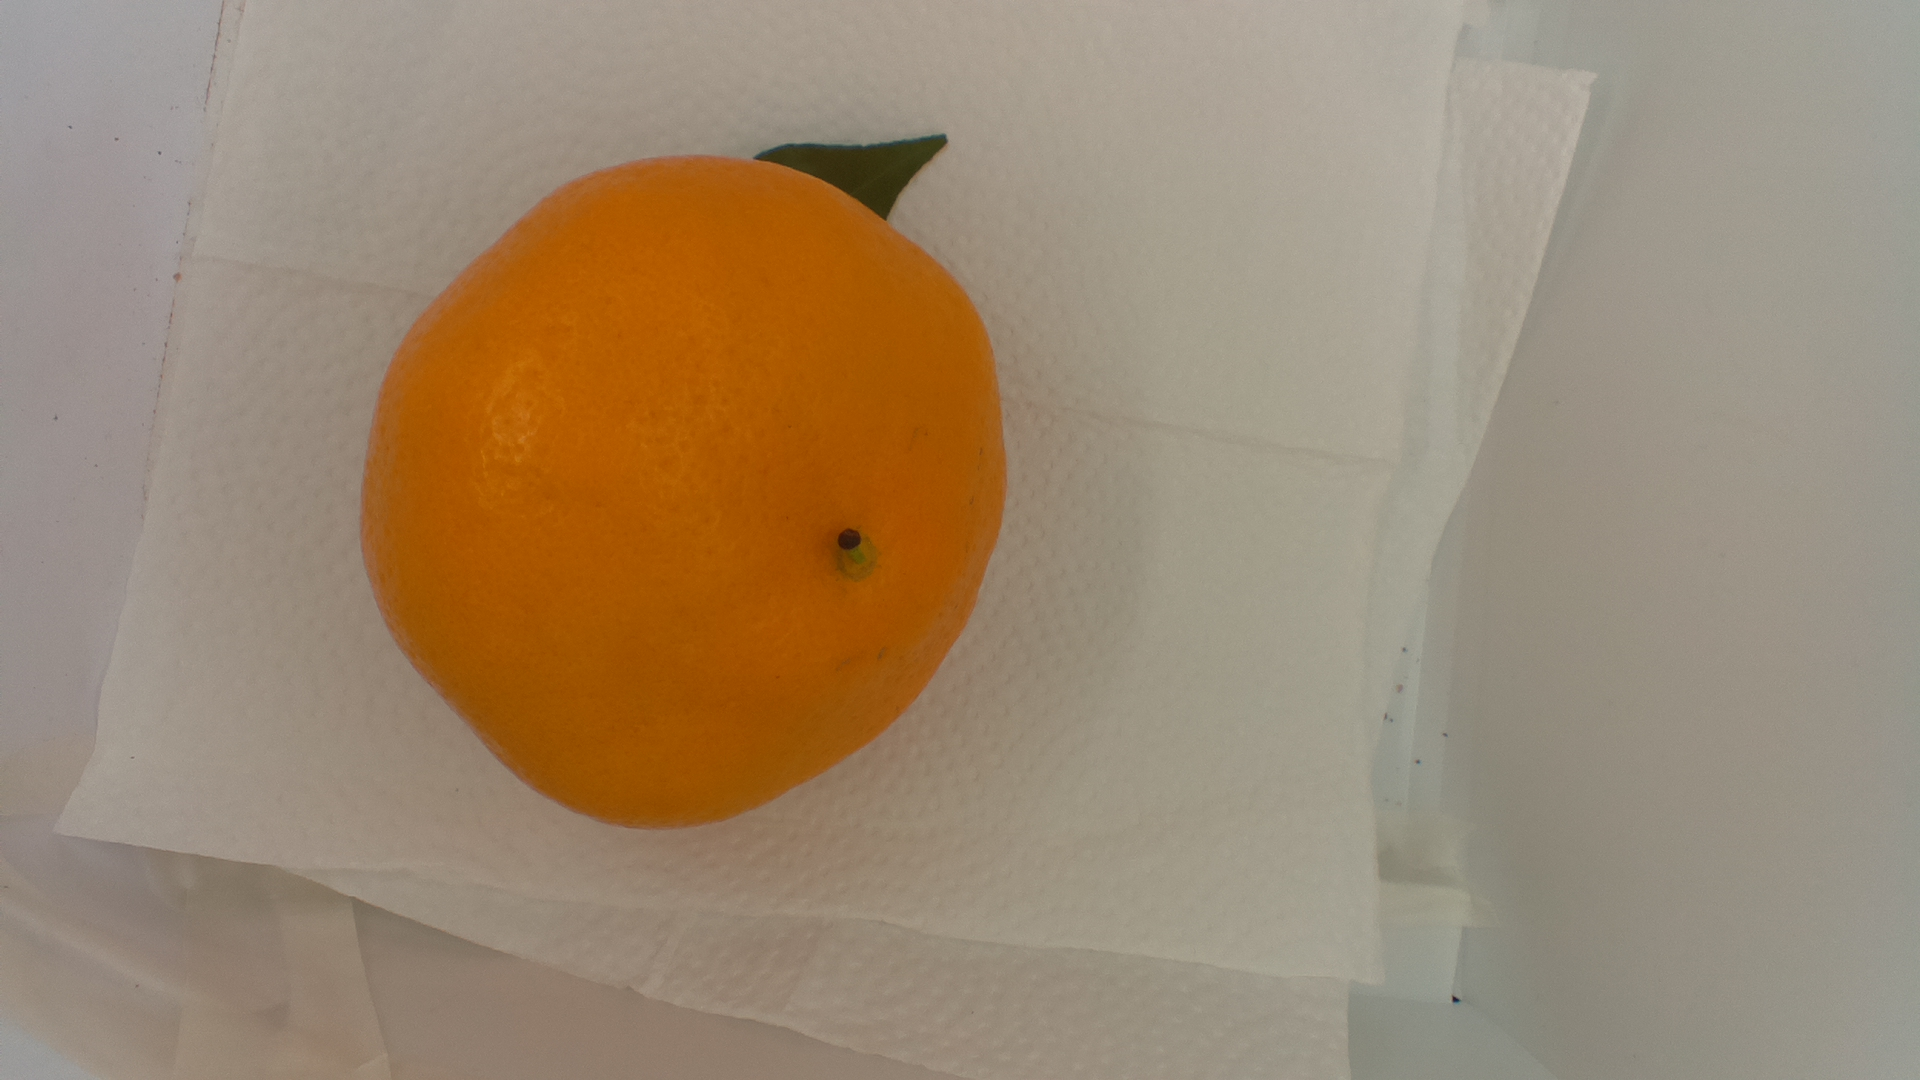fruit: (353, 124, 1022, 843)
